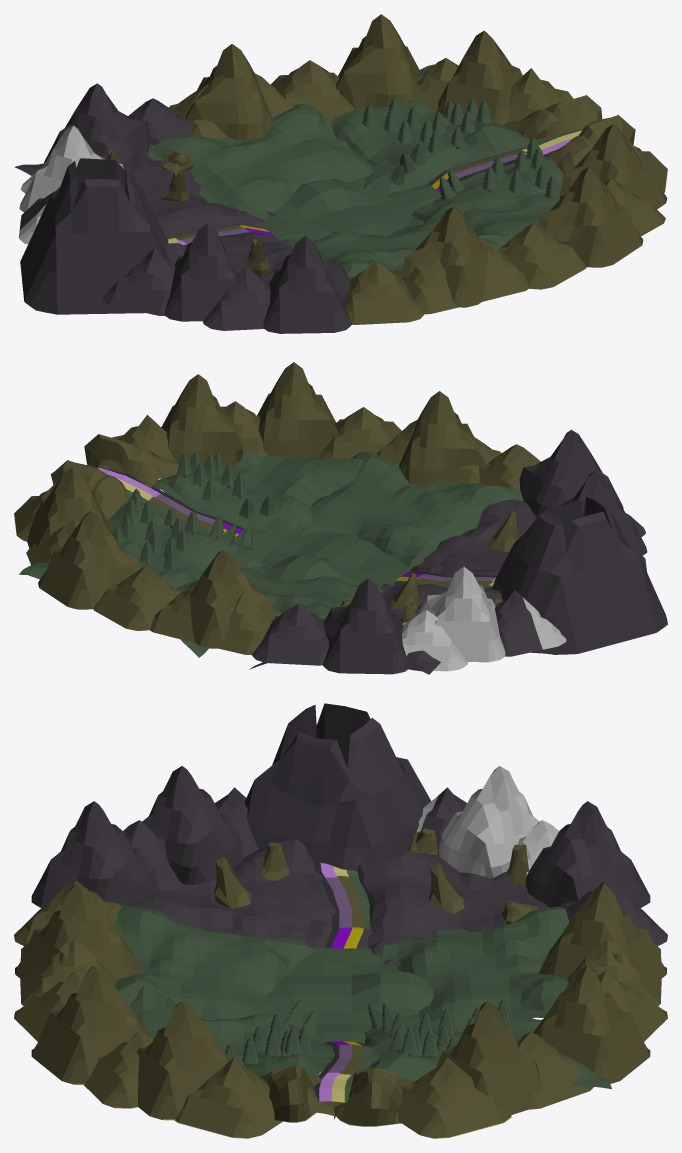
File: Level_001_LavaSnow_003.fbx
The picture shows the model from 3 angles, top to bottom: view 1: azimuth 30°, elevation 25°; view 2: azimuth 150°, elevation 25°; view 3: azimuth 270°, elevation 25°; orthographic projection. The views are drawn at different scales.
Parts seen in each view (by area): view 1: WholeIsland_001, CenntreMass_001, Water_001, Lava_001; view 2: WholeIsland_001, CenntreMass_001, Water_001, Lava_001; view 3: WholeIsland_001, CenntreMass_001, Lava_001, Water_001.
Boxes of the visible parts, x1,y1,x2,y2 form: WholeIsland_001: [14, 14, 667, 333]; CenntreMass_001: [256, 179, 441, 240]; Water_001: [427, 129, 582, 192]; Lava_001: [167, 224, 274, 245]; WholeIsland_001: [14, 362, 667, 674]; CenntreMass_001: [233, 528, 411, 585]; Water_001: [98, 467, 243, 536]; Lava_001: [394, 571, 496, 588]; WholeIsland_001: [14, 703, 667, 1138]; CenntreMass_001: [266, 947, 433, 1043]; Lava_001: [313, 862, 372, 948]; Water_001: [313, 1041, 372, 1102].
Size of the model in its own units: 445714 by 101939 by 351208.
